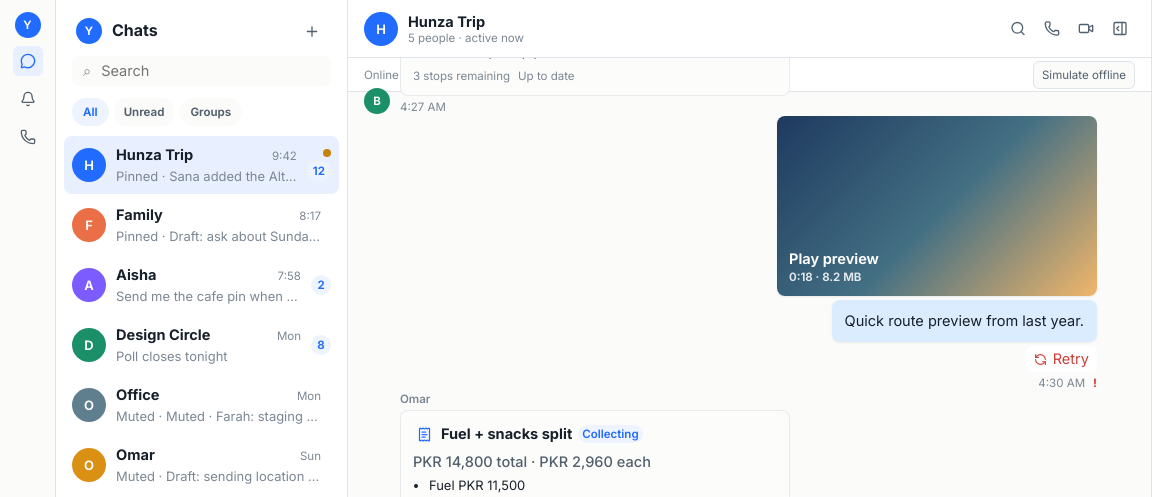
it: Seyloq shell › supports deterministic retry and reactions
(page scrolled)
Click the button "Retry". click: (1061, 359)
box: [1026,346,1097,372]
(page scrolled)
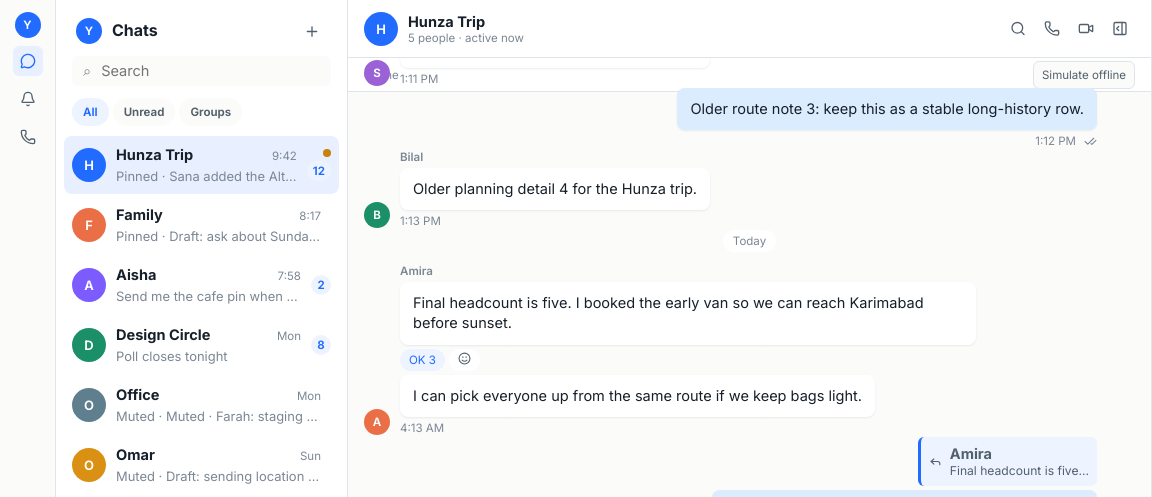
expect the button "Retry" is gone: met
Click the button with aria-label "okay, 3". click: (422, 360)
box: [400,349,445,371]
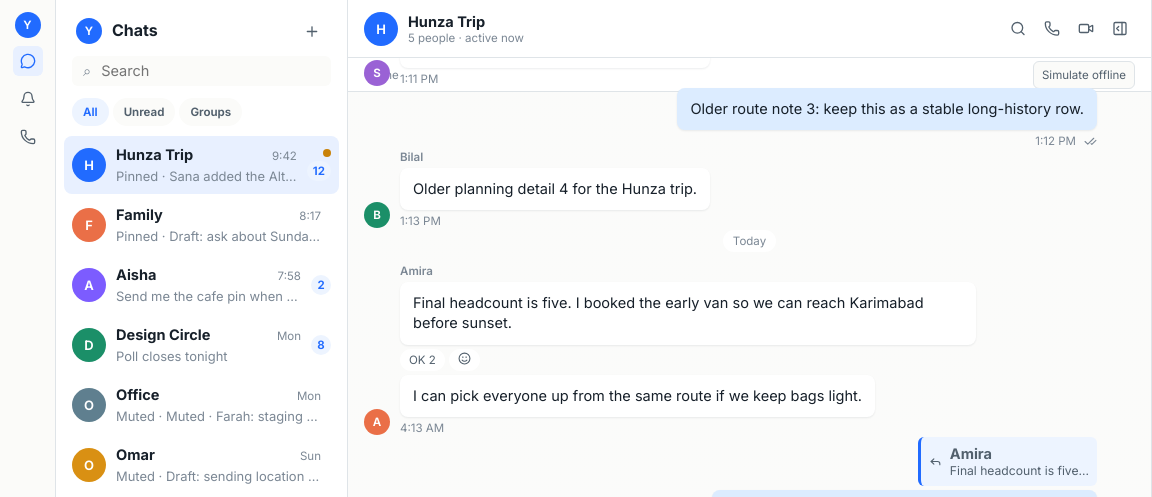
expect the button with aria-label "okay, 2" is shown: met, box [400,349,445,371]
